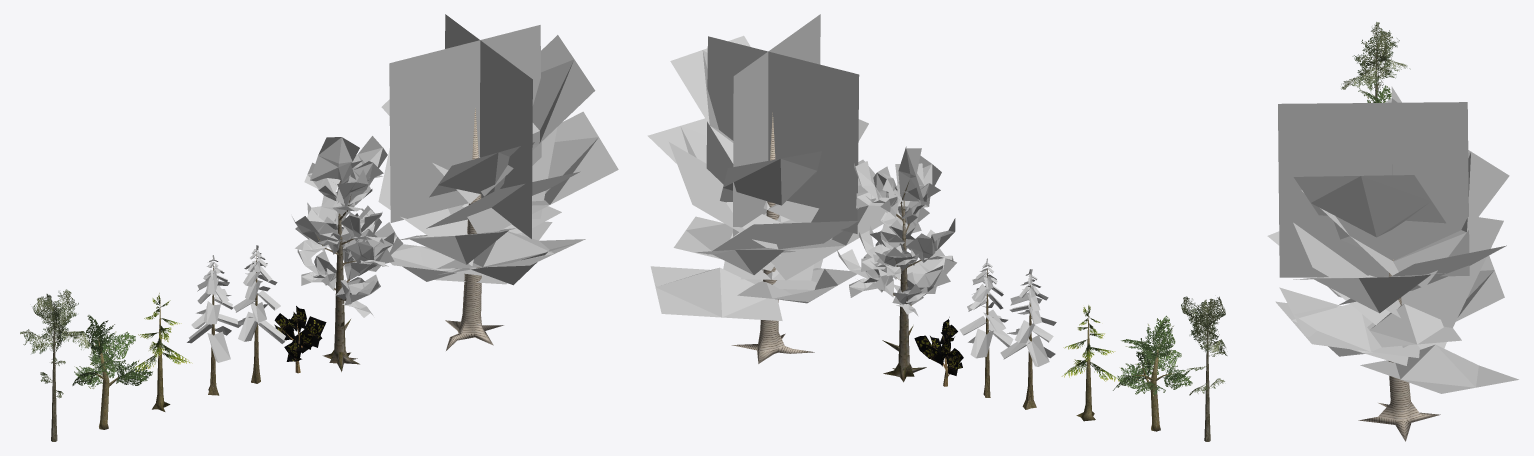
Rendered from Trees.dae.
3 renders of one model, left to right at view 1: azimuth 30°, elevation 25°; view 2: azimuth 150°, elevation 25°; view 3: azimuth 270°, elevation 25°, orthographic. The views are drawn at different scales.
Visible parts, largest first — view 1: Tree, Tree_1, Tree_6, Tree_7, Tree_4, Tree_3, Tree_2, Tree_5; view 2: Tree, Tree_1, Tree_6, Tree_4, Tree_3, Tree_7, Tree_5, Tree_2; view 3: Tree, Tree_7.
Part boxes in pixels (box(x1,y1,x2,y2)): Tree: box(378, 14, 618, 350); Tree_1: box(292, 136, 403, 371); Tree_6: box(72, 315, 152, 429); Tree_7: box(20, 289, 90, 441); Tree_4: box(187, 255, 240, 395); Tree_3: box(233, 245, 285, 383); Tree_2: box(274, 306, 326, 373); Tree_5: box(132, 293, 192, 411); Tree: box(647, 14, 887, 363); Tree_1: box(837, 146, 956, 382); Tree_6: box(1113, 315, 1192, 431); Tree_4: box(1000, 269, 1056, 409); Tree_3: box(959, 258, 1013, 397); Tree_7: box(1181, 296, 1227, 441); Tree_5: box(1061, 305, 1119, 421); Tree_2: box(914, 317, 963, 386); Tree: box(1267, 58, 1518, 441); Tree_7: box(1341, 22, 1410, 101).
Size of the model in its own units: 40.59 by 14.08 by 19.89.
